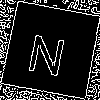N: (25, 24, 70, 77)
